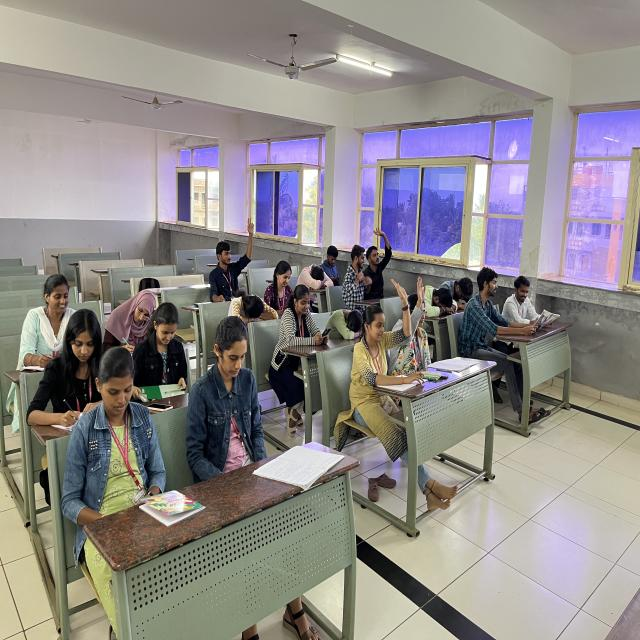Hand Rising: (356, 279, 414, 400), (199, 200, 263, 297), (399, 270, 441, 366), (365, 209, 396, 300)
Reading: (465, 262, 557, 360), (506, 257, 567, 337)
Sleeping: (221, 278, 277, 338), (412, 256, 459, 323), (324, 285, 364, 348), (433, 253, 475, 310), (292, 252, 336, 300)
Using Phone: (192, 316, 276, 461), (72, 362, 162, 496), (272, 283, 334, 379), (261, 260, 302, 324), (318, 229, 346, 289)
Writing: (25, 302, 100, 439), (18, 255, 89, 380), (95, 283, 158, 361)
